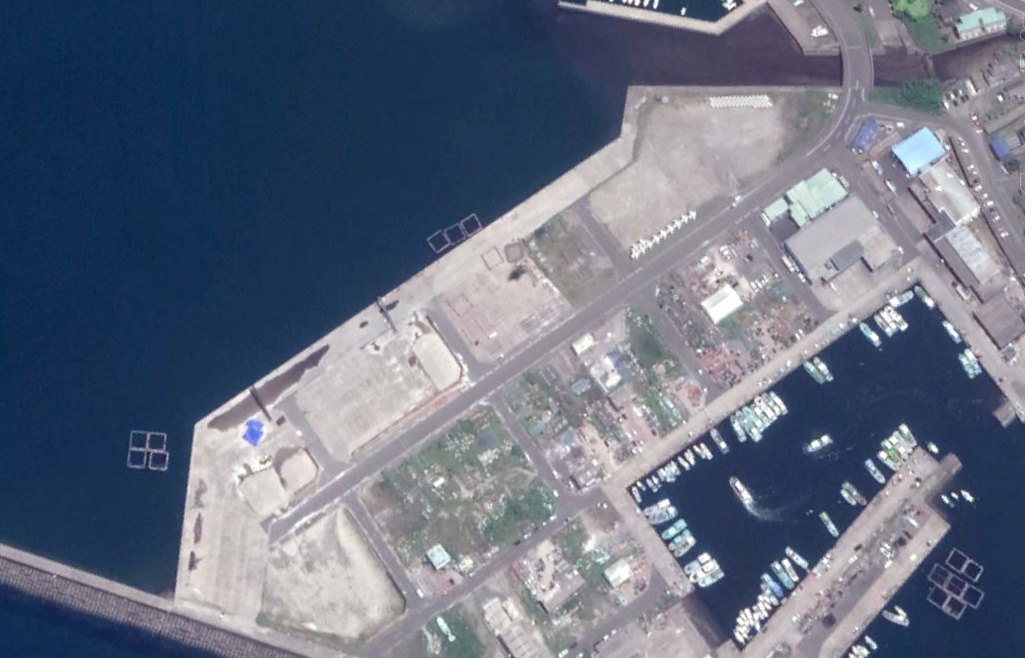house: (779, 189, 899, 289), (921, 214, 1014, 303), (771, 167, 849, 232), (907, 157, 964, 237), (968, 277, 1025, 346), (887, 115, 949, 177), (485, 600, 542, 658), (970, 291, 1025, 344), (696, 277, 752, 325), (954, 2, 1012, 42), (597, 547, 638, 592), (849, 114, 887, 158), (419, 539, 459, 575), (988, 130, 1014, 162), (570, 329, 597, 359)
ship: (724, 471, 779, 527), (799, 350, 837, 390), (952, 340, 984, 383), (799, 423, 838, 458), (877, 600, 920, 631), (815, 507, 849, 546), (938, 479, 977, 512), (704, 422, 734, 460), (853, 315, 885, 350), (939, 312, 967, 347), (656, 517, 691, 541), (739, 412, 760, 439), (622, 482, 645, 505), (764, 574, 785, 599), (774, 562, 793, 589), (882, 305, 905, 327), (756, 397, 777, 421), (690, 562, 719, 579), (845, 482, 867, 504), (883, 440, 903, 463), (753, 405, 772, 428), (698, 569, 723, 586), (878, 451, 899, 471), (866, 460, 885, 482), (915, 286, 934, 308), (786, 549, 808, 567), (745, 408, 763, 430), (668, 530, 689, 548), (646, 510, 675, 523), (891, 436, 908, 458), (762, 584, 779, 606), (763, 394, 780, 415), (674, 540, 696, 556), (686, 555, 708, 571), (874, 315, 891, 334), (897, 430, 911, 453), (900, 424, 915, 445), (771, 392, 786, 413), (731, 416, 744, 440), (784, 558, 797, 581), (640, 502, 669, 512), (888, 292, 911, 303), (752, 609, 760, 635), (759, 596, 773, 610), (659, 468, 672, 483), (842, 490, 855, 503), (700, 444, 711, 459), (745, 607, 753, 627), (678, 459, 691, 471), (692, 445, 704, 457), (867, 635, 877, 649), (669, 462, 679, 475), (687, 450, 695, 464), (734, 632, 743, 643), (736, 619, 745, 626)
square: (455, 202, 486, 240), (119, 444, 153, 475), (420, 223, 452, 255), (942, 542, 972, 575), (924, 558, 953, 590), (922, 580, 952, 610), (941, 591, 966, 625), (959, 580, 985, 612), (126, 426, 152, 453), (961, 557, 986, 584), (145, 427, 169, 455), (147, 449, 171, 473)
